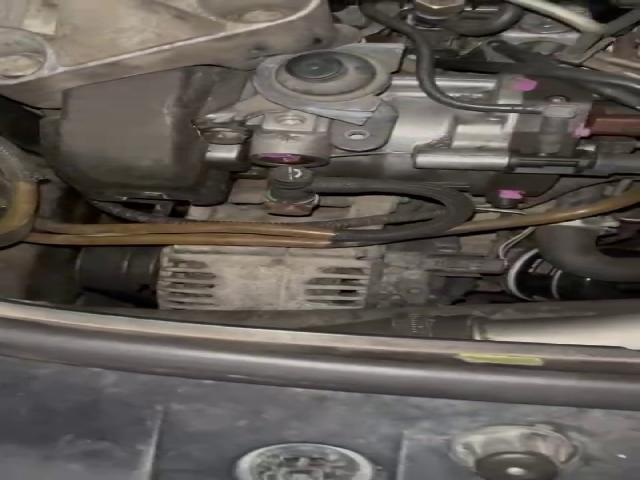alternator: (156, 235, 507, 310)
high_pressure_pump: (238, 72, 604, 209)
